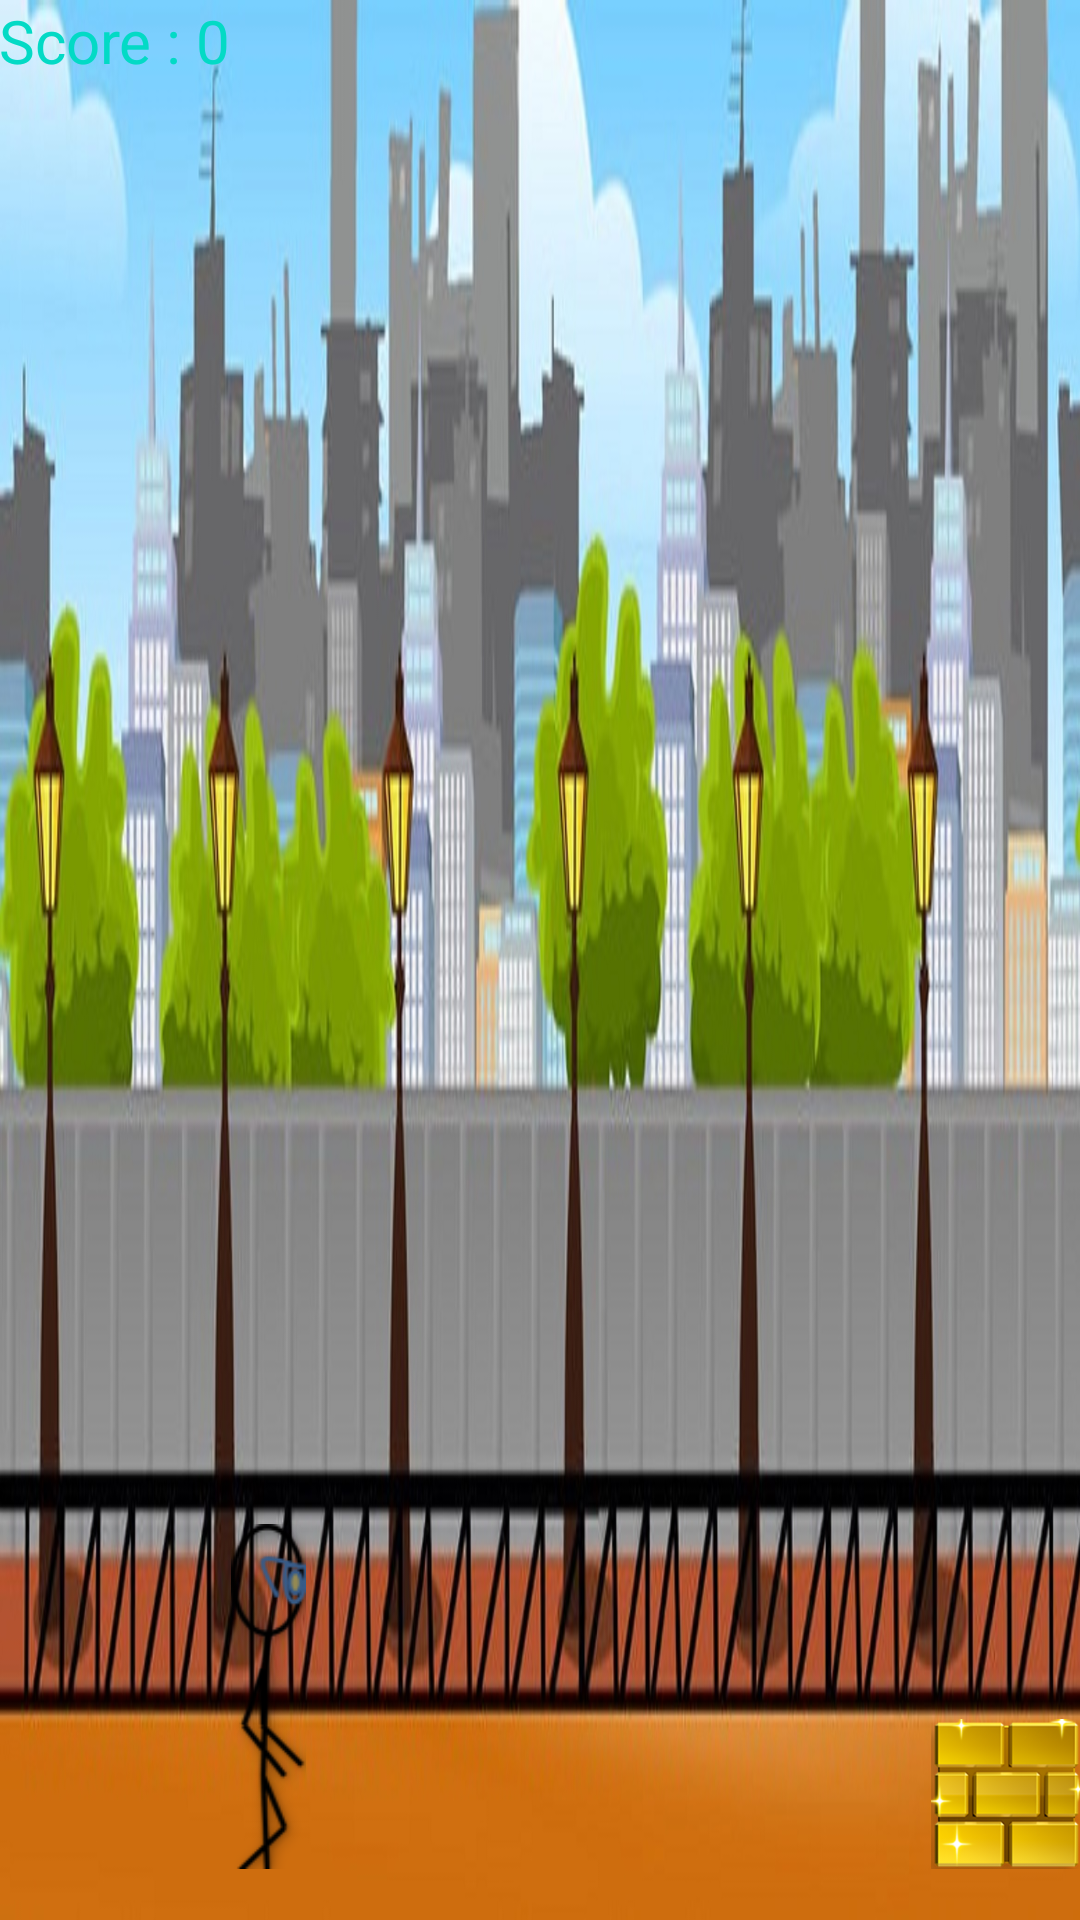

Point at icon controls on the screen. Image size 1080px×1920px, points as point (x, y).
walk: point (268, 1696)
